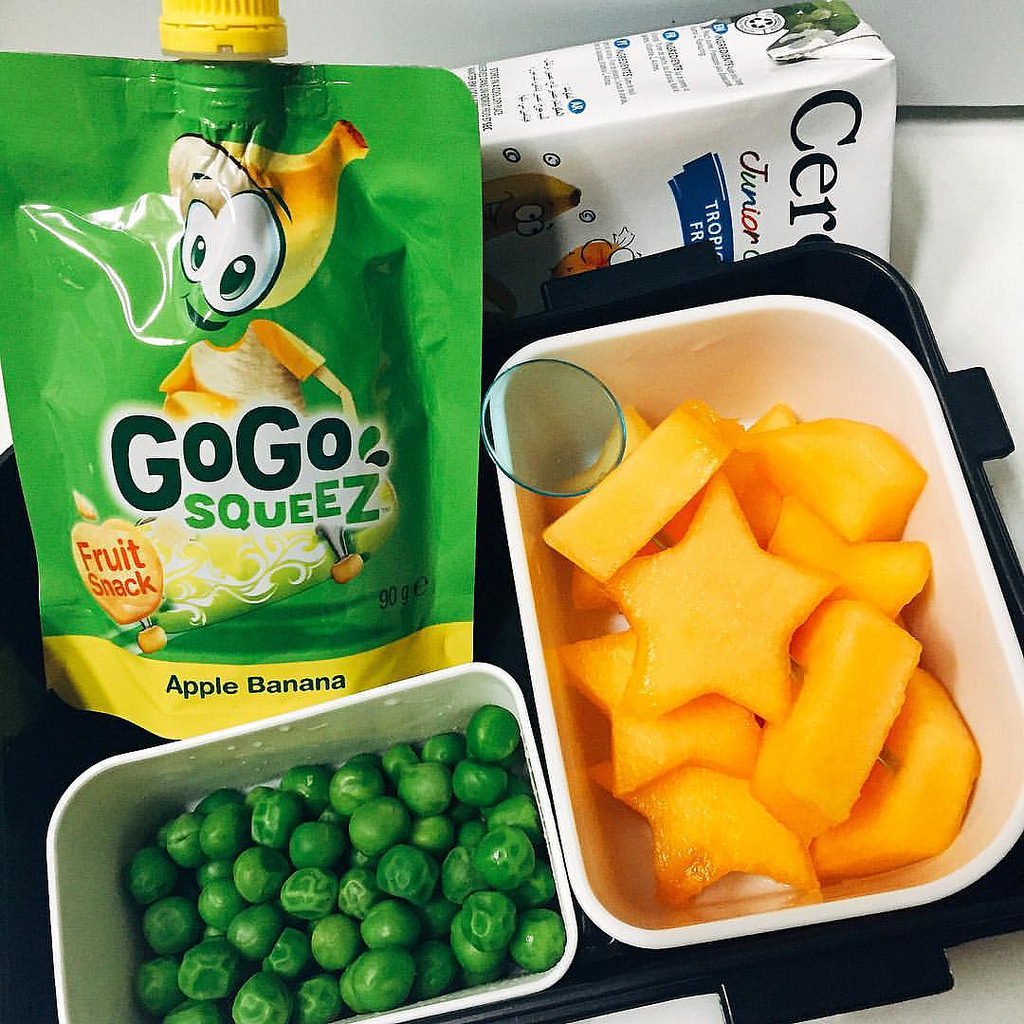boiled peas: (155, 827, 529, 968)
